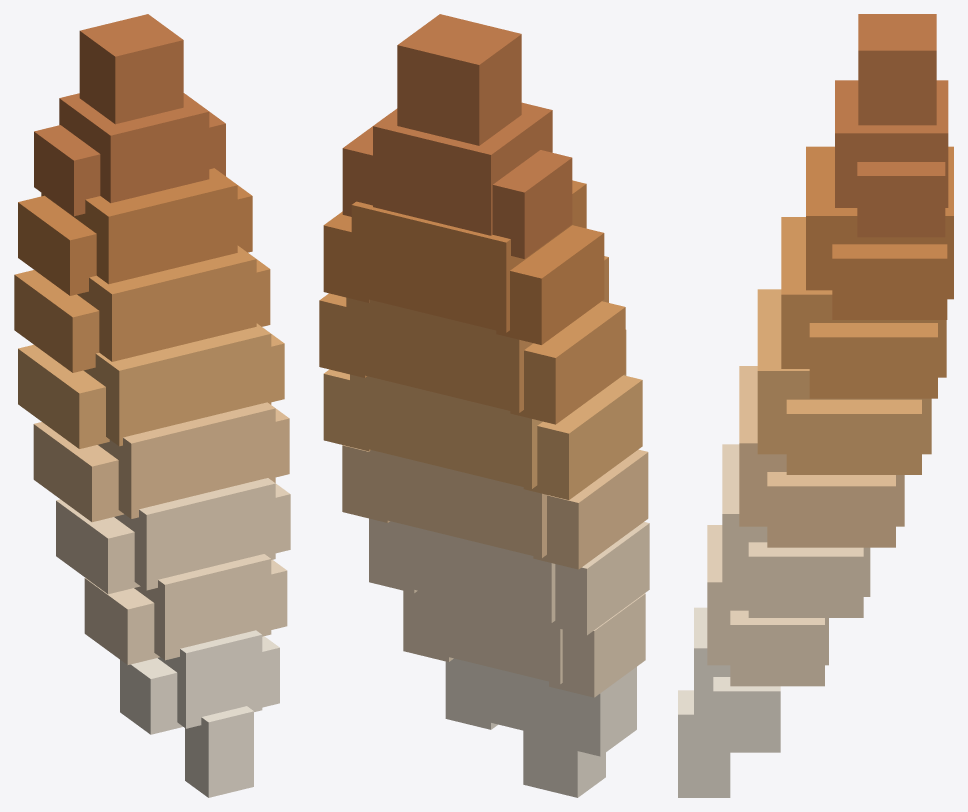
Rendered from cauda_raposa.glb.
3 renders of one model, left to right at view 1: azimuth 30°, elevation 25°; view 2: azimuth 150°, elevation 25°; view 3: azimuth 270°, elevation 25°, orthographic. The views are drawn at different scales.
Visible parts, largest first — view 1: cauda_raposa; view 2: cauda_raposa; view 3: cauda_raposa.
Part boxes in pixels (x1,y1,x2,y2): cauda_raposa: [14, 14, 290, 797]; cauda_raposa: [319, 14, 649, 797]; cauda_raposa: [678, 14, 953, 797].
Bounding box in the file's own units: 0.27 × 0.86 × 0.2855.
